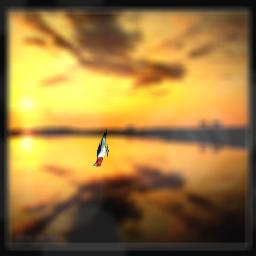Woodpecker: (93, 127, 109, 167)
